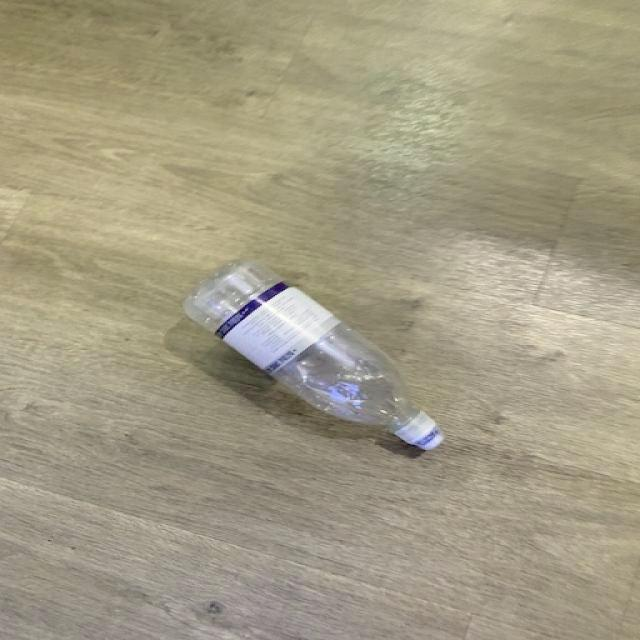bottle: (182, 259, 447, 451)
